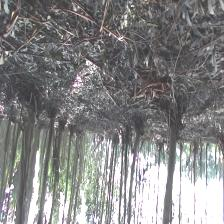trunk: (15, 114, 37, 220), (162, 122, 178, 220), (39, 119, 54, 213), (127, 135, 141, 219), (64, 131, 73, 204)
